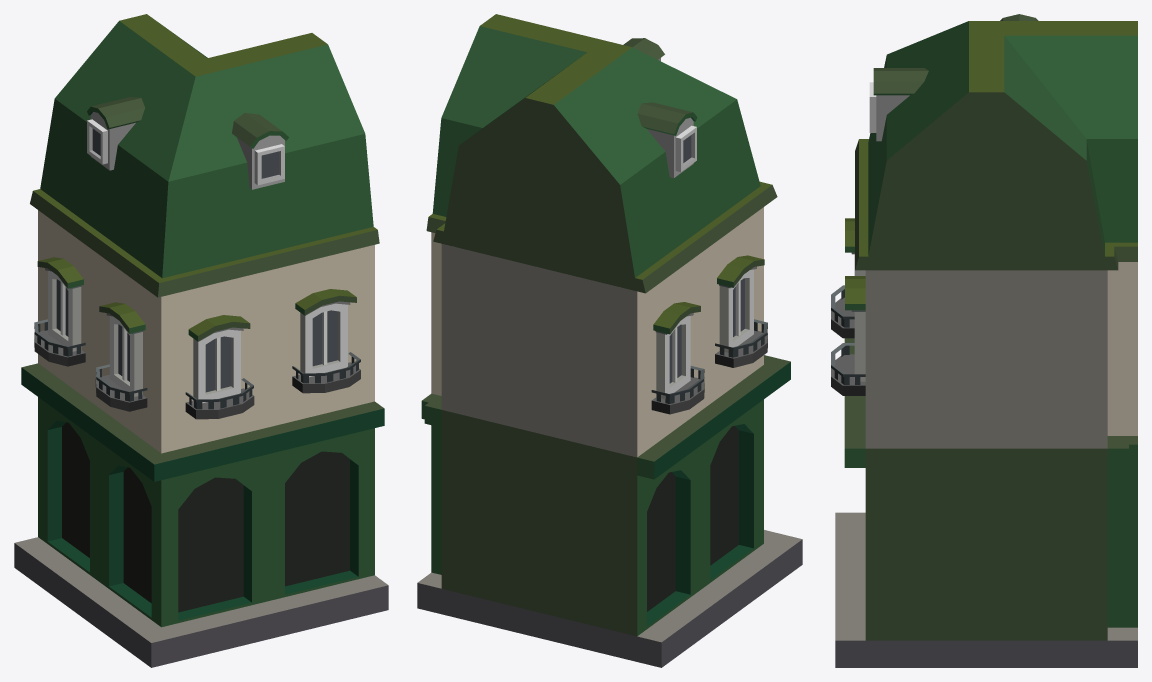
The model's file is TB_CITY_BD_Green_Corner.FBX.
The picture shows the model from 3 angles, left to right: view 1: azimuth 30°, elevation 25°; view 2: azimuth 150°, elevation 25°; view 3: azimuth 270°, elevation 25°; orthographic projection. The views are drawn at different scales.
Visible parts, largest first — view 1: TB_CITY_BD_Green_Corner; view 2: TB_CITY_BD_Green_Corner; view 3: TB_CITY_BD_Green_Corner.
Part boxes in pixels (x1,y1,x2,y2): TB_CITY_BD_Green_Corner: [14, 14, 388, 667]; TB_CITY_BD_Green_Corner: [417, 14, 802, 667]; TB_CITY_BD_Green_Corner: [831, 14, 1137, 667].
Size of the model in its own units: 8.11 by 16.78 by 8.11.
